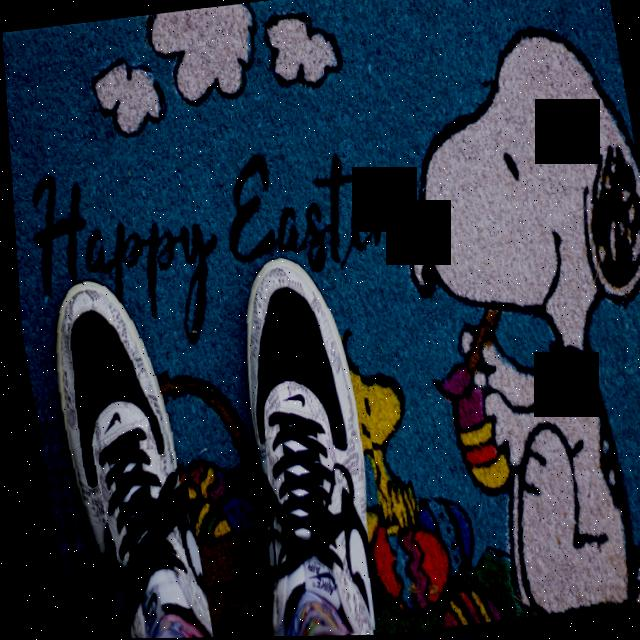shoe: (197, 245, 395, 638), (13, 254, 206, 640)
